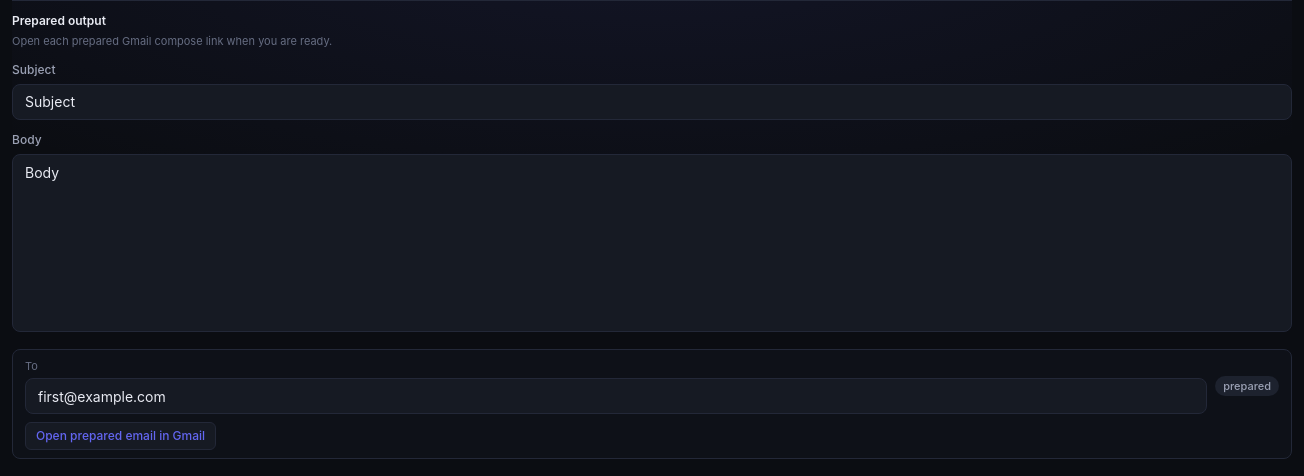
Test case: BulkOutputPanel › renders one explicit safe Gmail link per selected recipient without opening a popup
This screenshot has width=1304, height=476.
Click the link "Open prepared email in Gmail" at [121, 436], box [25,422,216,450]
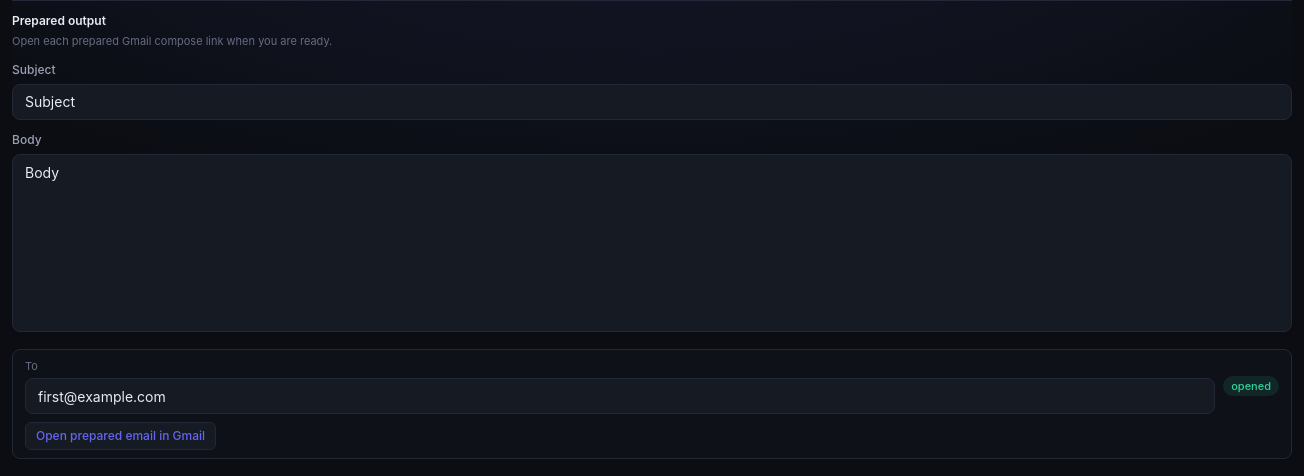
Expected: the text "opened" is shown, [1223,376,1279,396]
